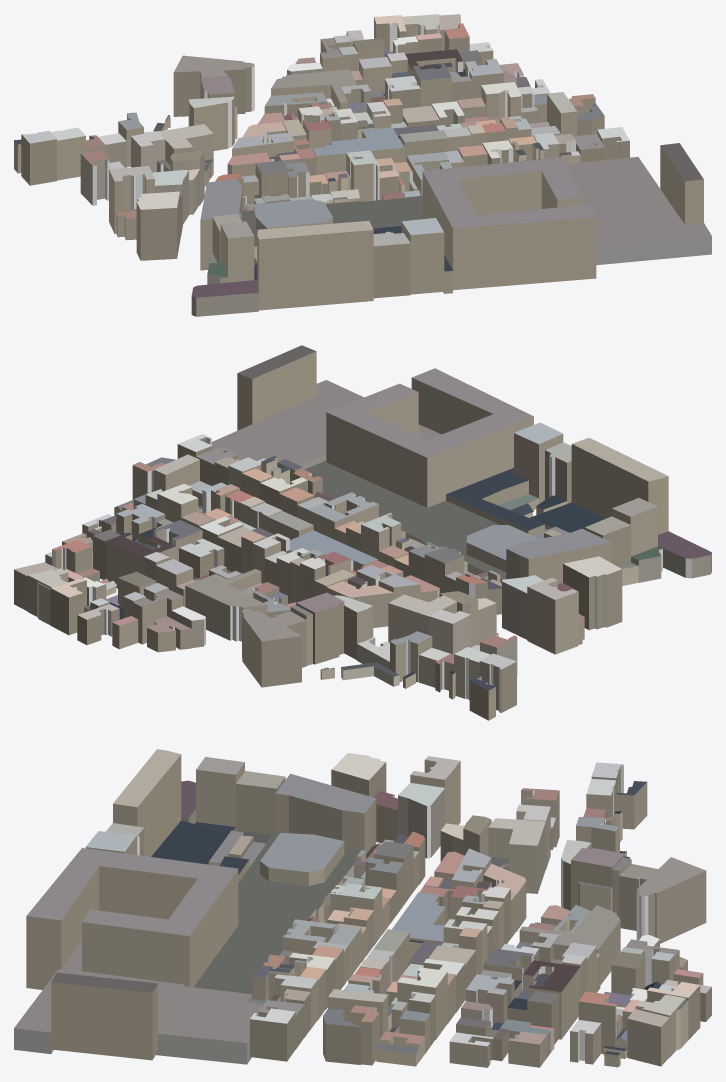
The picture shows the model from 3 angles, top to bottom: view 1: azimuth 30°, elevation 25°; view 2: azimuth 150°, elevation 25°; view 3: azimuth 270°, elevation 25°; orthographic projection. The views are drawn at different scales.
Parts seen in each view (by area): view 1: tuile; view 2: tuile; view 3: tuile.
Boxes of the visible parts, x1,y1,x2,y2 form: tuile: (14, 14, 711, 316); tuile: (14, 345, 711, 720); tuile: (14, 749, 711, 1067).
Size of the model in its own units: 266 by 43.75 by 287.
